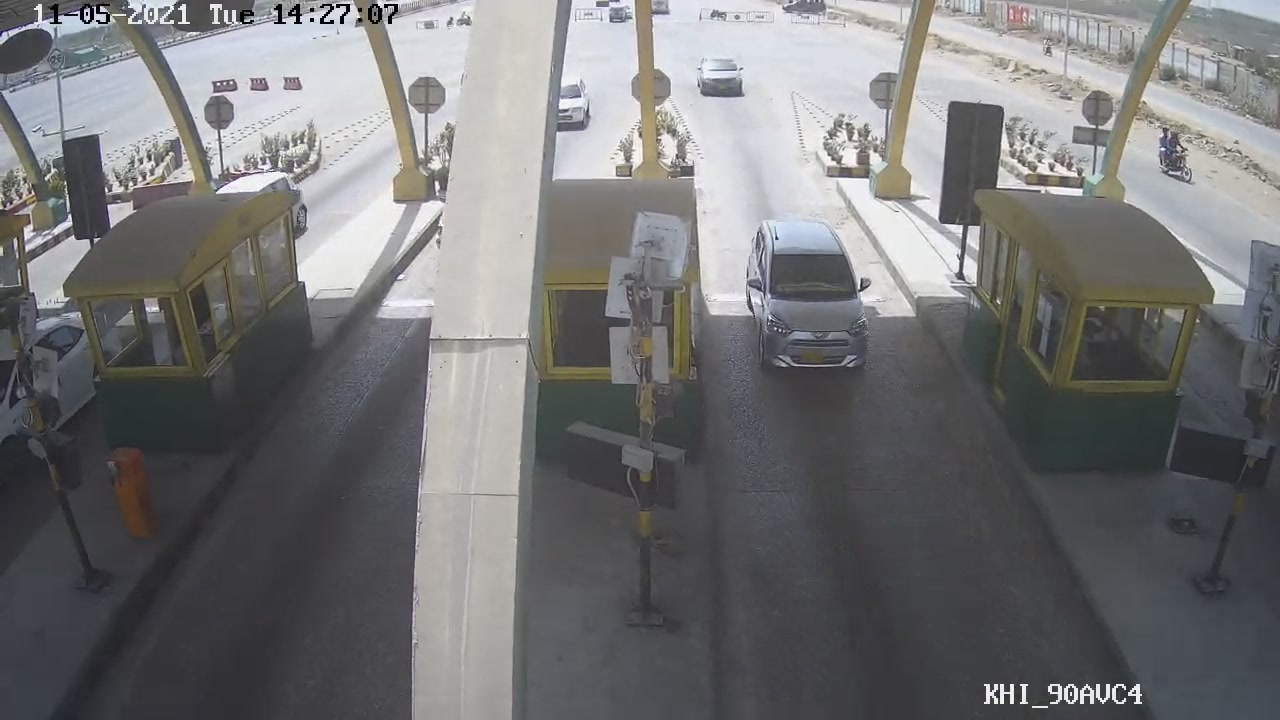F1: (729, 212, 907, 371)
